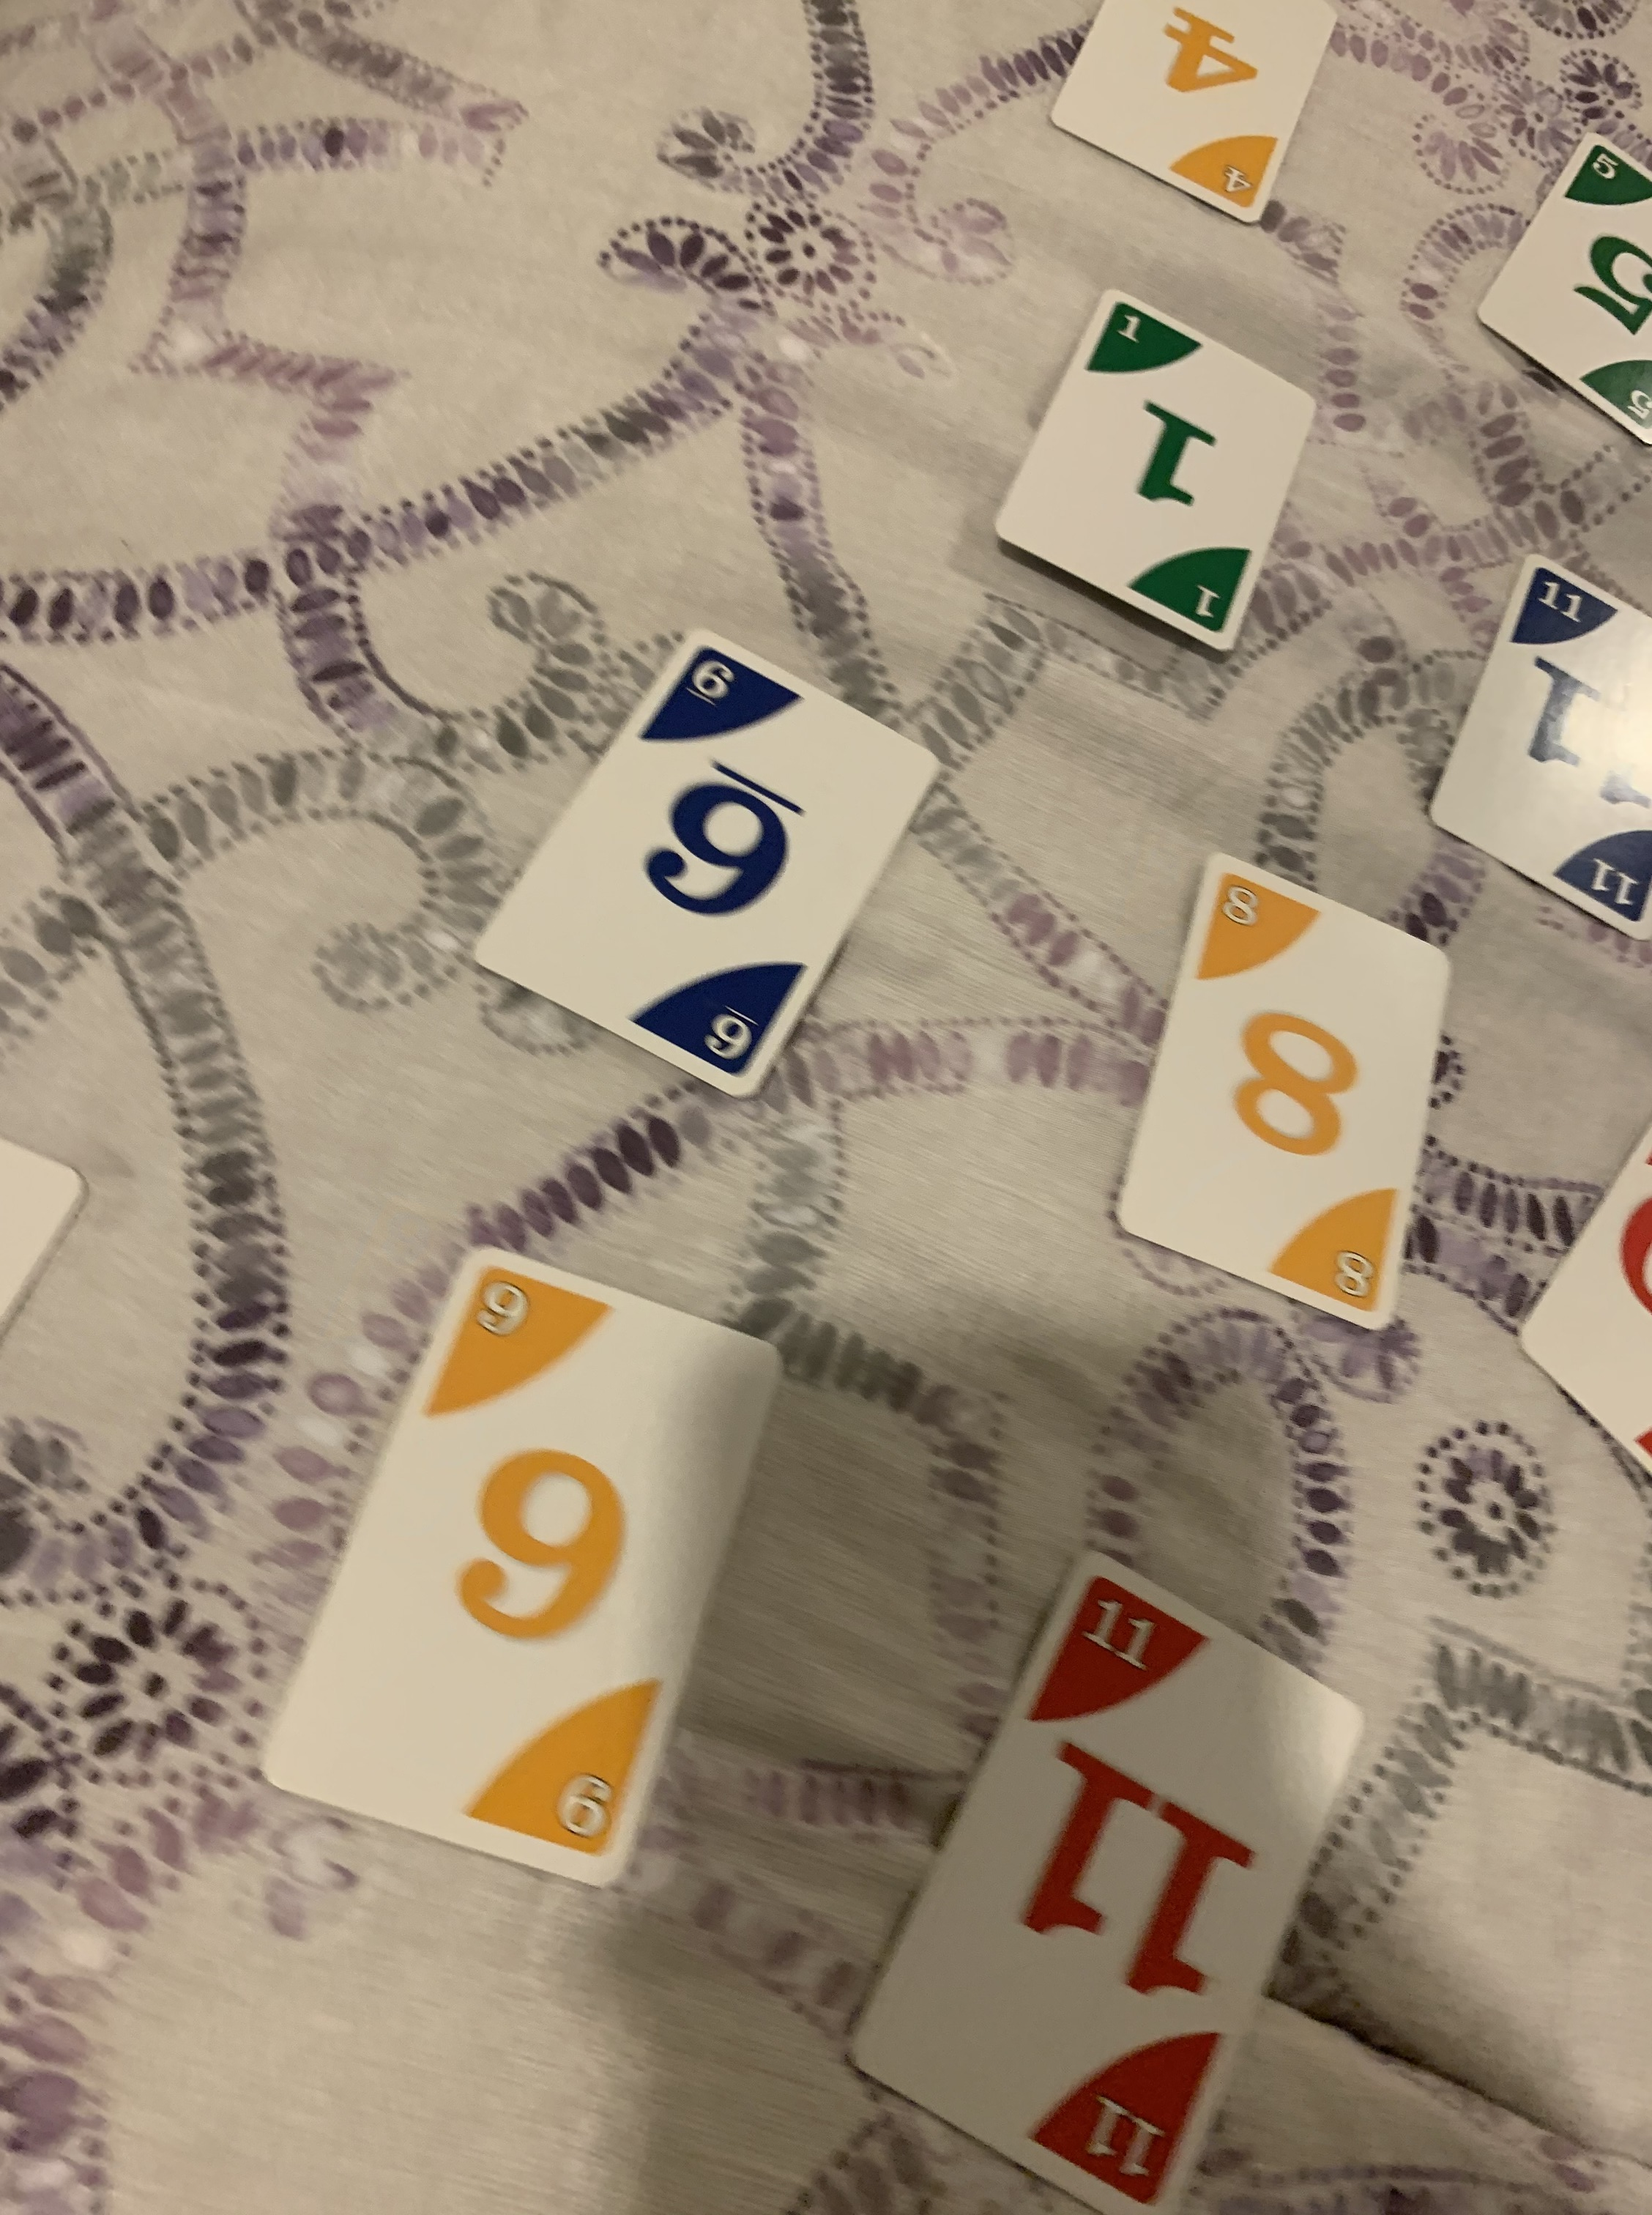eight: (1109, 849, 1452, 1335)
eleven: (835, 1550, 1373, 2215), (1411, 549, 1652, 937)
five: (1470, 127, 1652, 444)
four: (1039, 3, 1352, 224)
nine: (259, 1239, 783, 1892)
one: (989, 290, 1324, 663)
six: (463, 620, 939, 1102)
